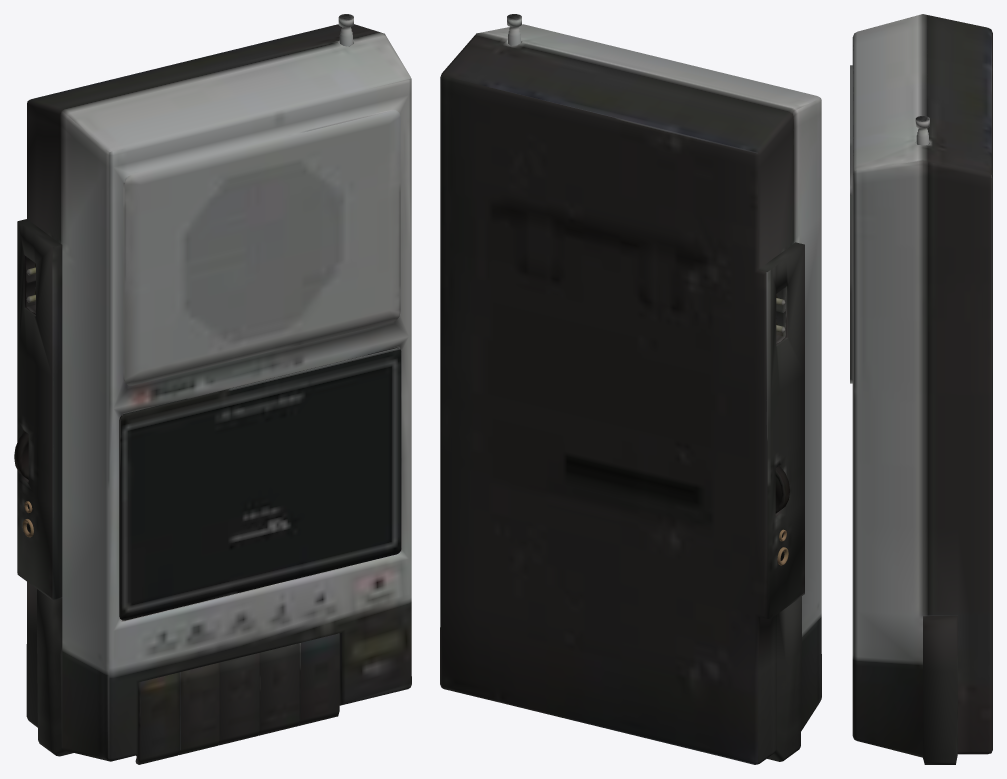
Rendered from cassette.glb.
3 views of the same model, side by side, from view 1: azimuth 30°, elevation 25°; view 2: azimuth 150°, elevation 25°; view 3: azimuth 270°, elevation 25° (orthographic). The views are drawn at different scales.
Visible parts, largest first — view 1: cassette_player_body; view 2: cassette_player_body; view 3: cassette_player_body.
Part boxes in pixels (<box>): cassette_player_body: <box>14,14,411,764</box>; cassette_player_body: <box>440,14,821,764</box>; cassette_player_body: <box>850,14,992,764</box>.
Bounding box in the file's own units: 0.1295 × 0.2368 × 0.0489.
3 materials, 3 textured.
